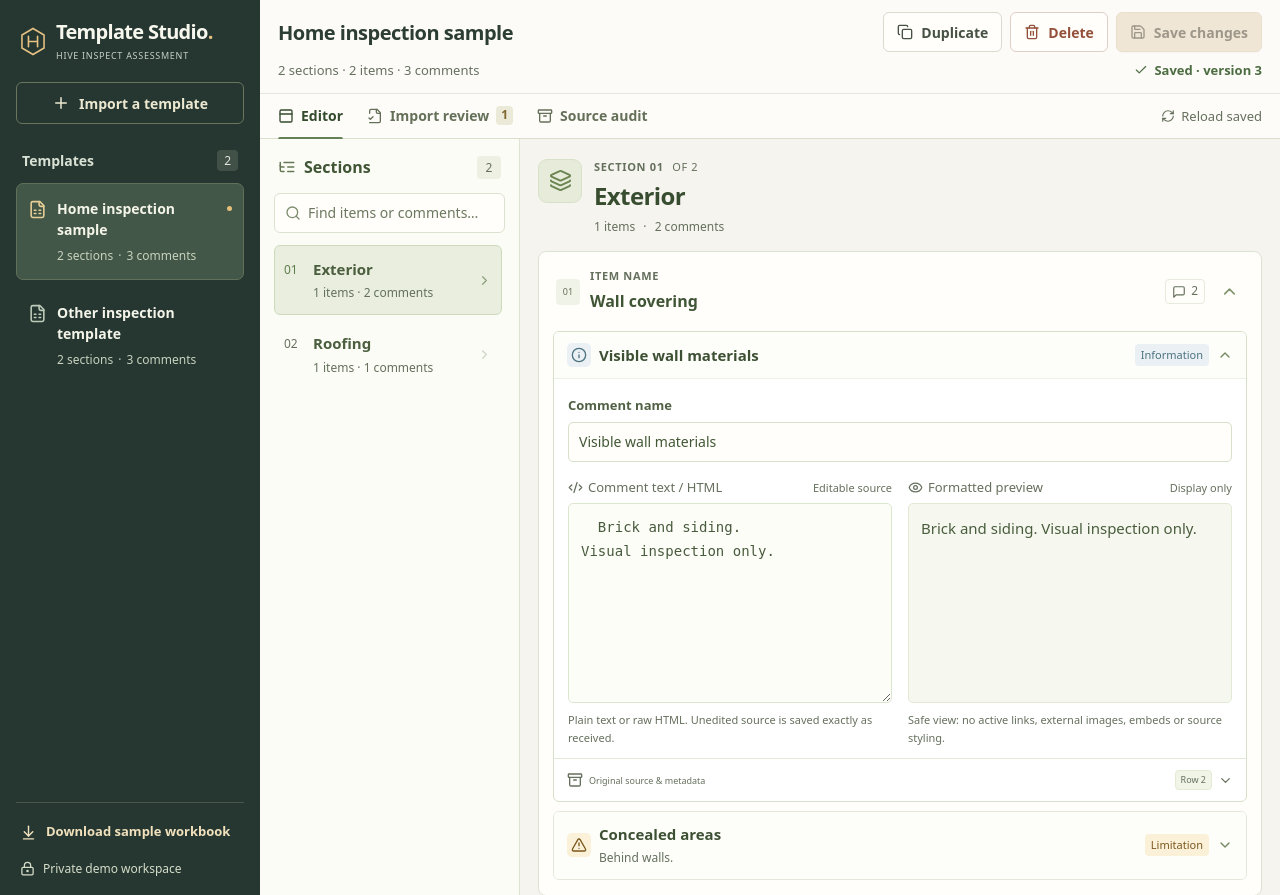
Test: end-to-end client state with unit-test API mocks › retries a failed template switch, not an unrelated save
Replace the text in the field named "Template name" with "Unsaved work": (568, 32) 273,14 -> 862,50
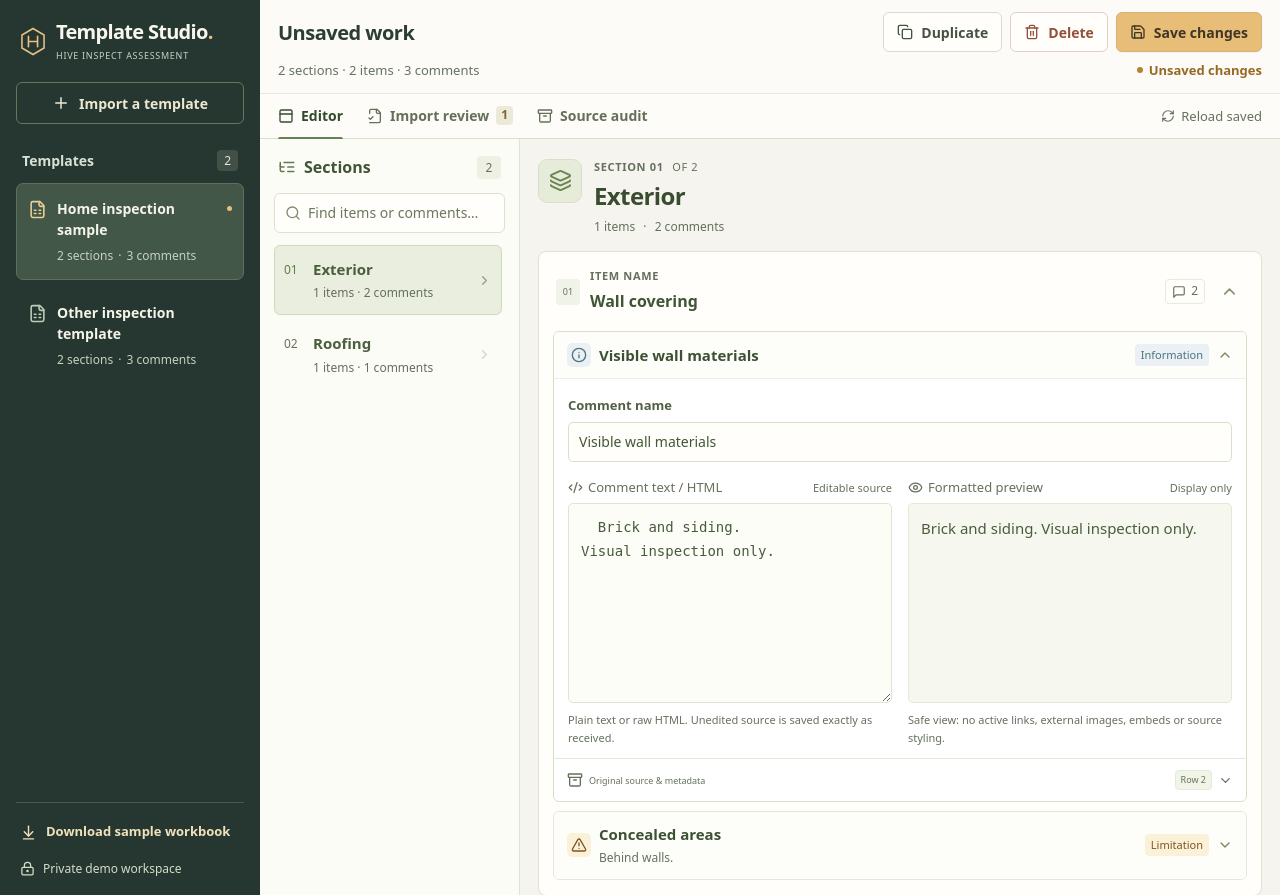
Click the button "Other inspection template 2 sections · 3 comments": (130, 336) 16,287 -> 244,384
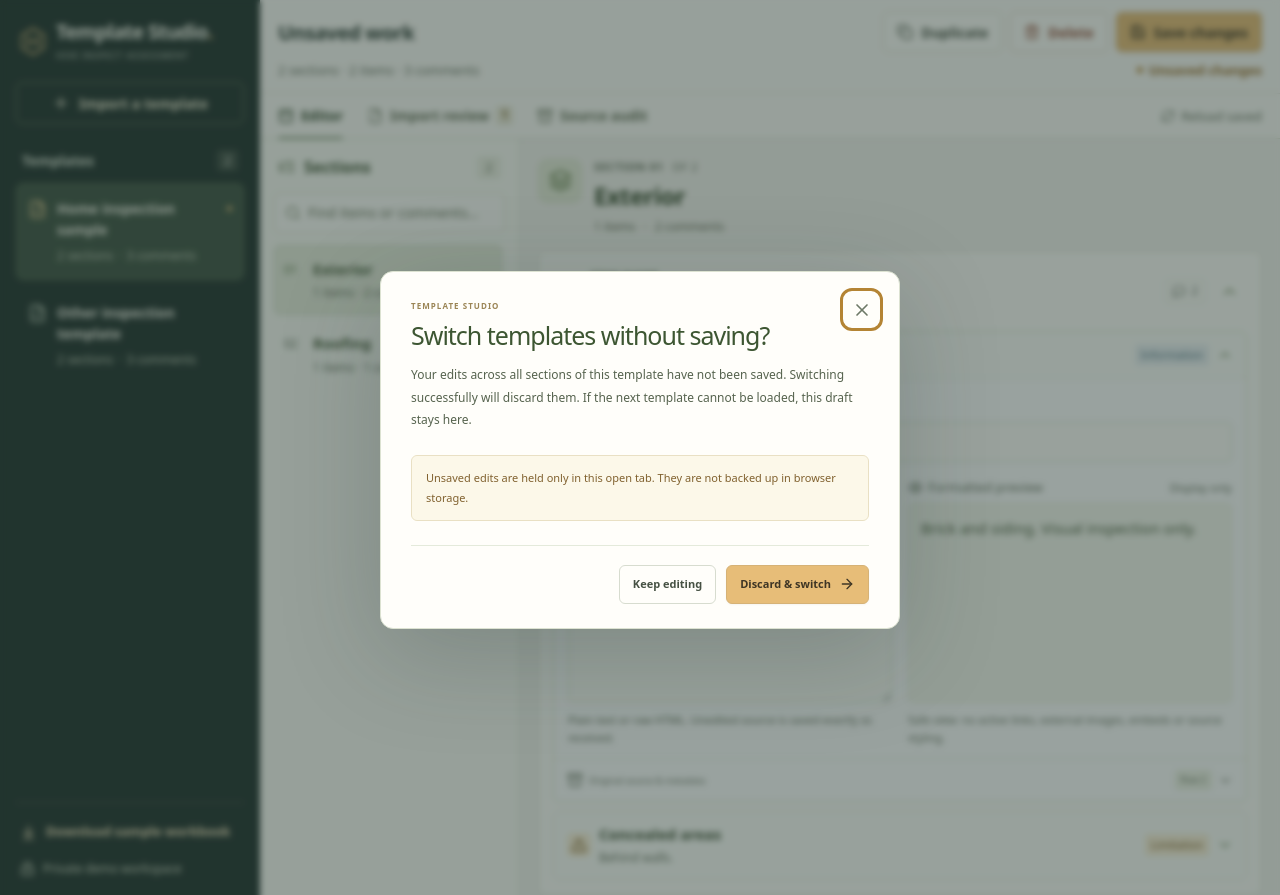
Click the button "Discard & switch": (798, 584) 726,565 -> 869,604
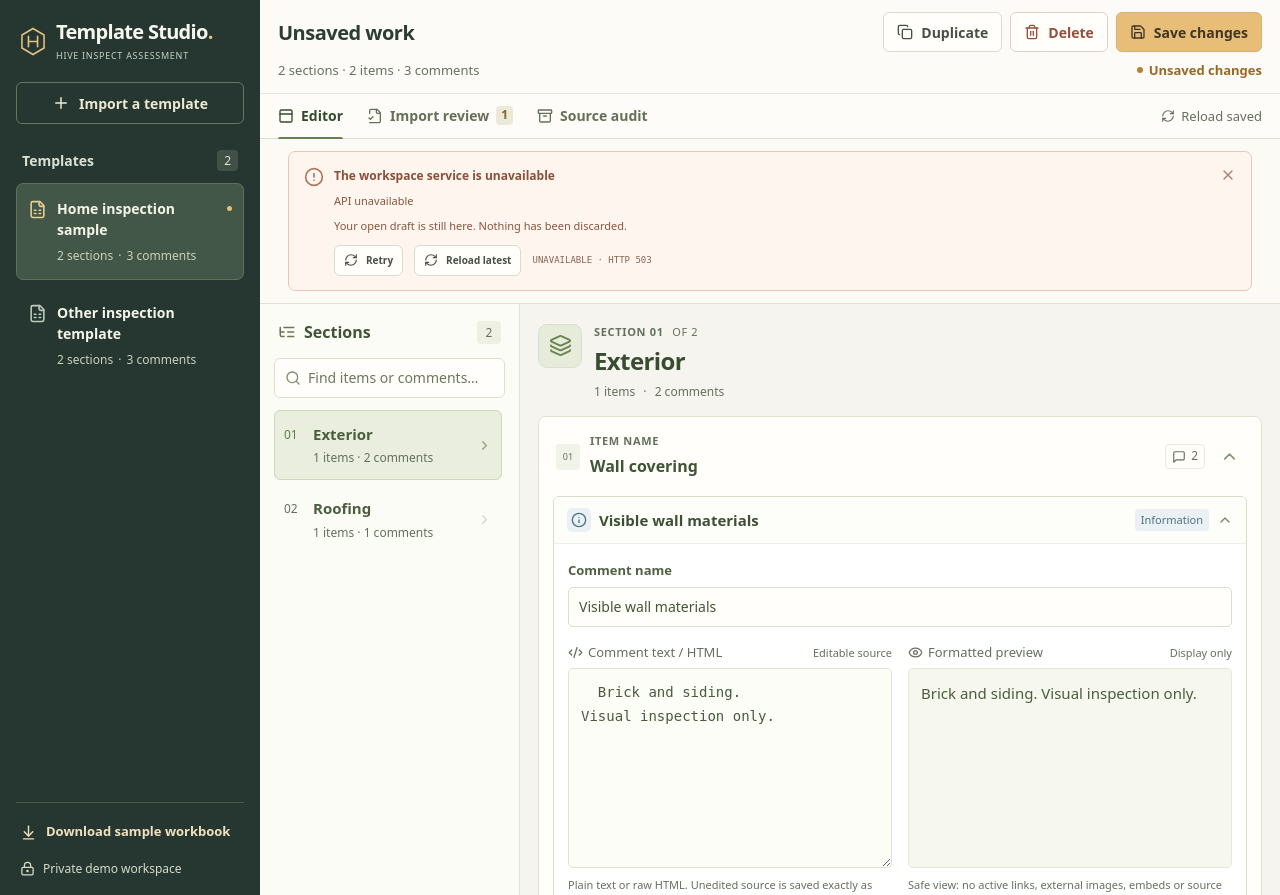
Result: the message that starts with "The workspace service is unavailable" is shown at 288,151 -> 1252,291
Click the button "Retry": (369, 260) 334,245 -> 403,276
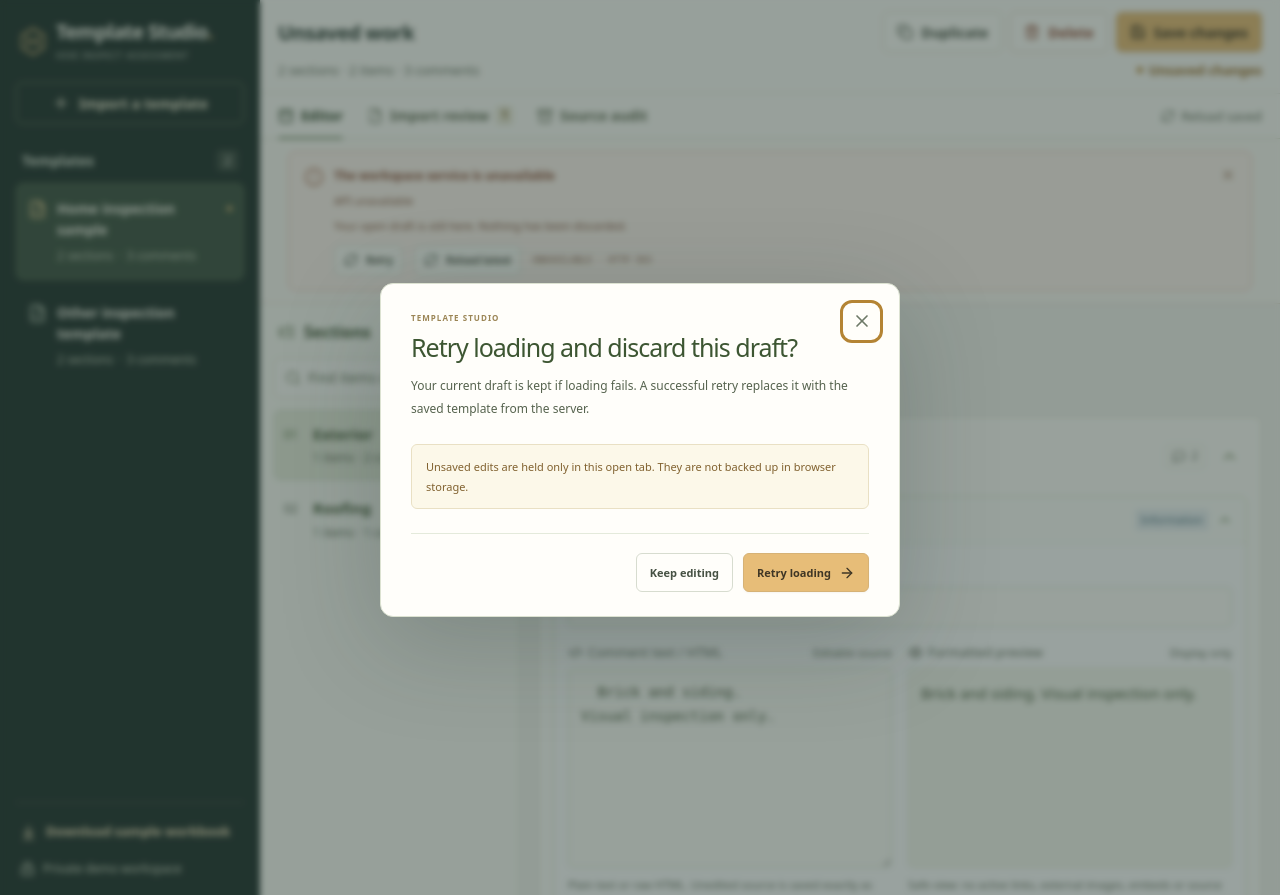
Click the button "Retry loading": (806, 573) 743,553 -> 869,592
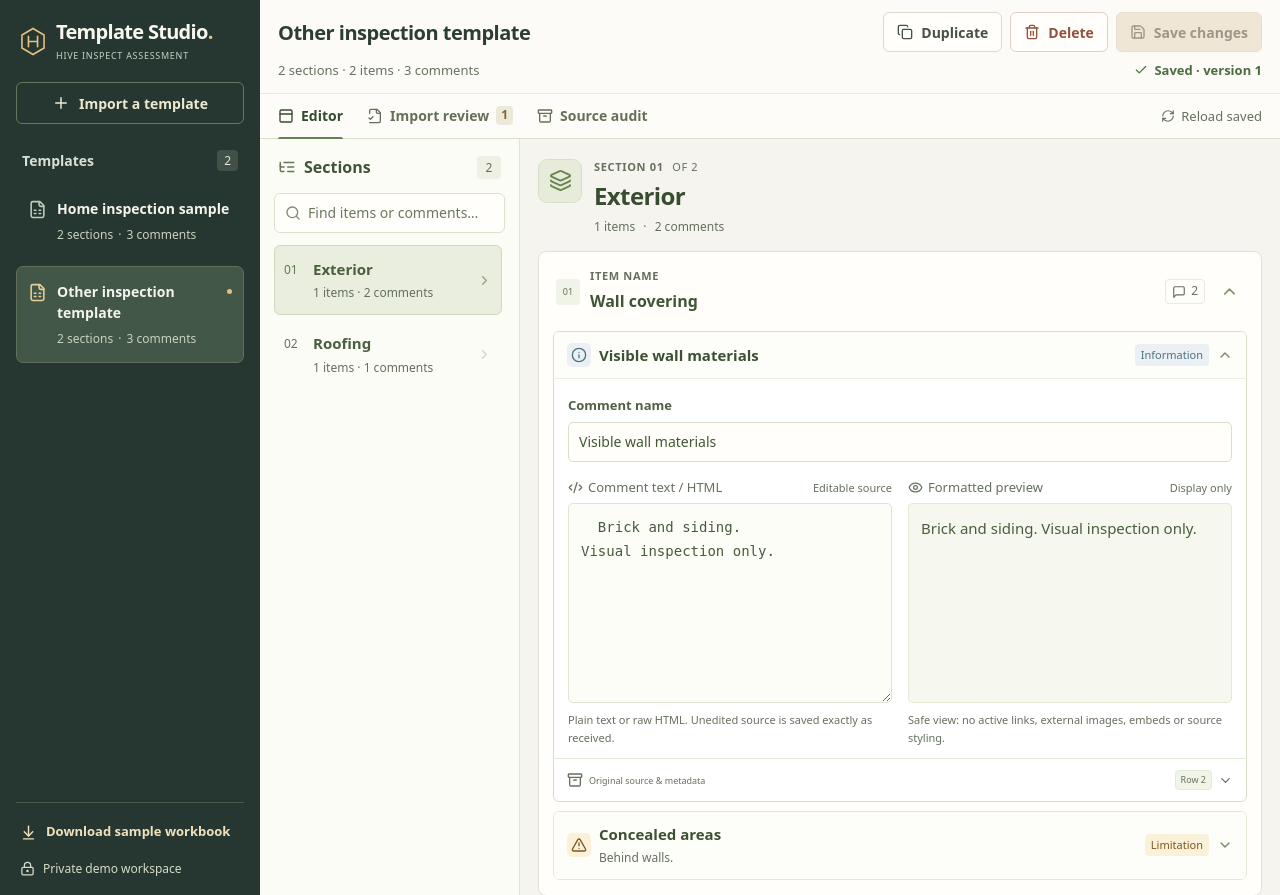
Result: the field named "Template name" holds "Other inspection template" at 273,14 -> 862,50
